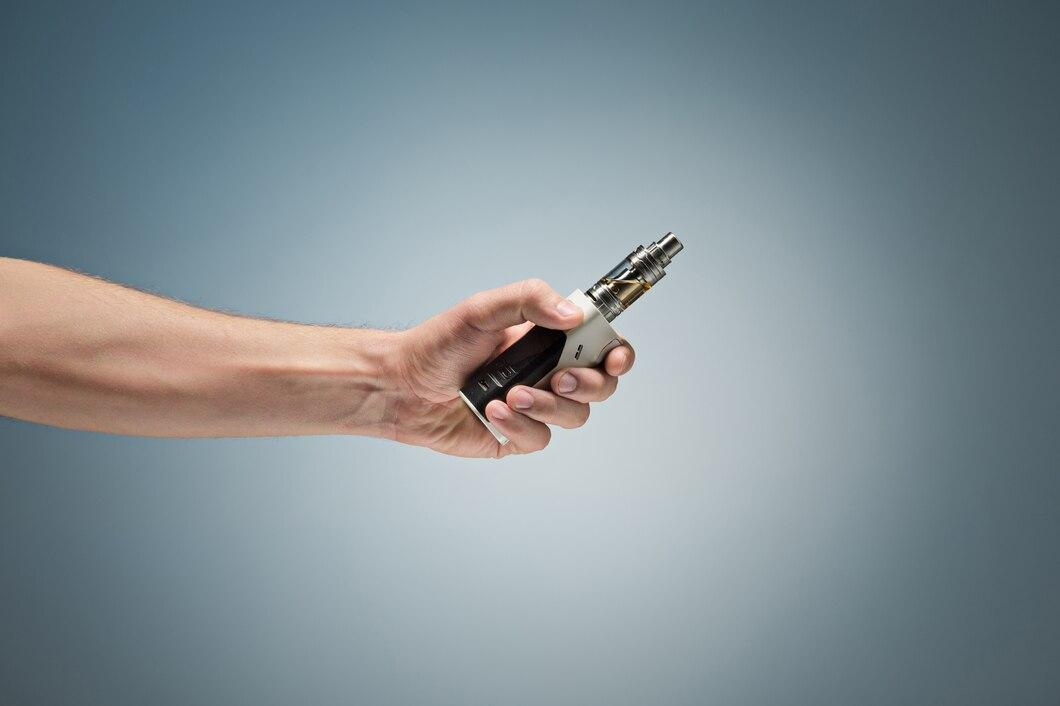Vape: (456, 231, 684, 447)
